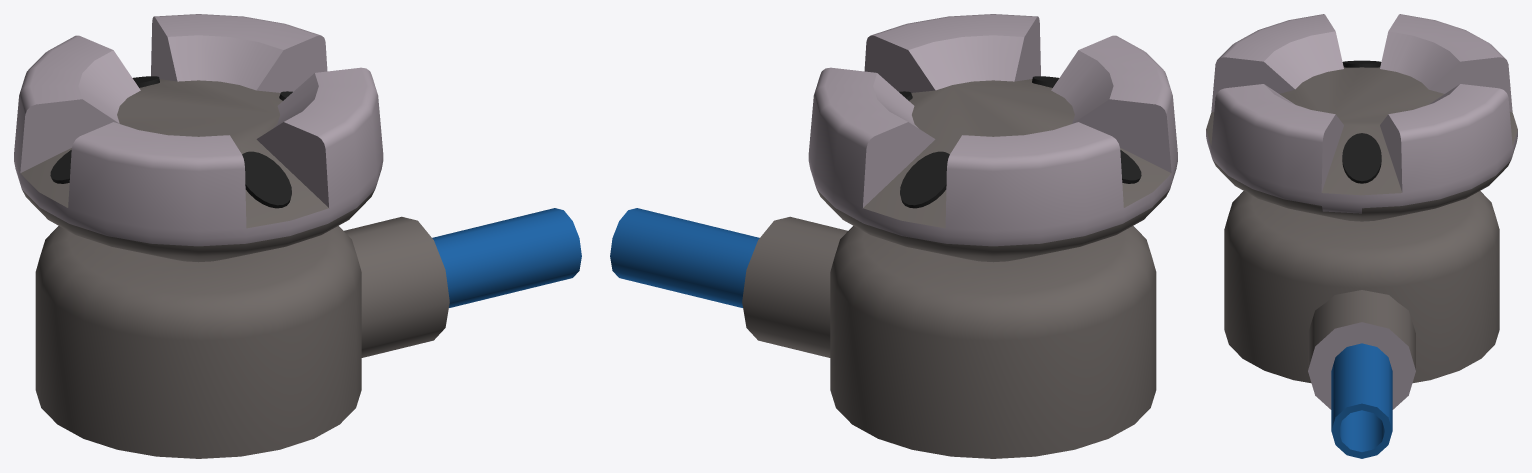
File: Sprinkler-001.fbx
3 views of the same model, side by side, from view 1: azimuth 30°, elevation 25°; view 2: azimuth 150°, elevation 25°; view 3: azimuth 270°, elevation 25° (orthographic). The views are drawn at different scales.
Parts seen in each view (by area): view 1: Sprinkler-001; view 2: Sprinkler-001; view 3: Sprinkler-001.
Part boxes in pixels (x1,y1,x2,y2): Sprinkler-001: [14, 14, 581, 458]; Sprinkler-001: [610, 14, 1177, 458]; Sprinkler-001: [1206, 14, 1517, 458].
Size of the model in its own units: 10.27 by 5.68 by 6.25.
